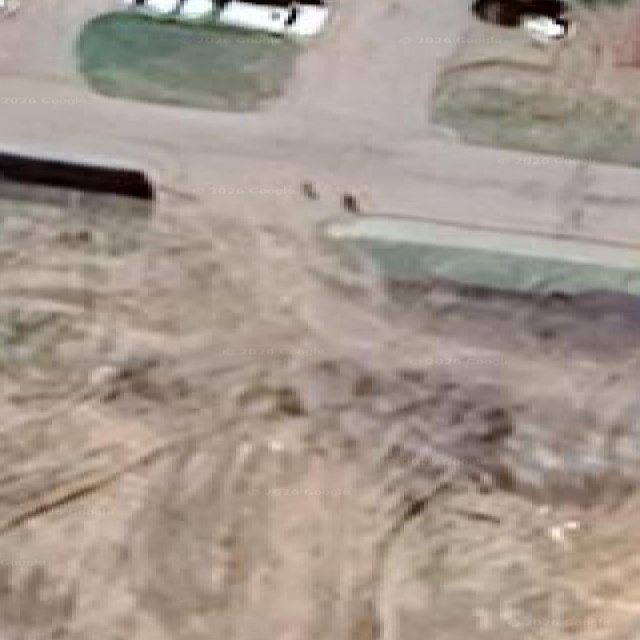car: (123, 0, 327, 36), (220, 0, 327, 35), (124, 0, 212, 19), (522, 16, 573, 42), (123, 0, 176, 15), (176, 0, 212, 19)
